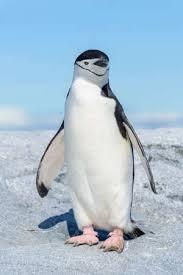chinstrap: (23, 30, 172, 275)
